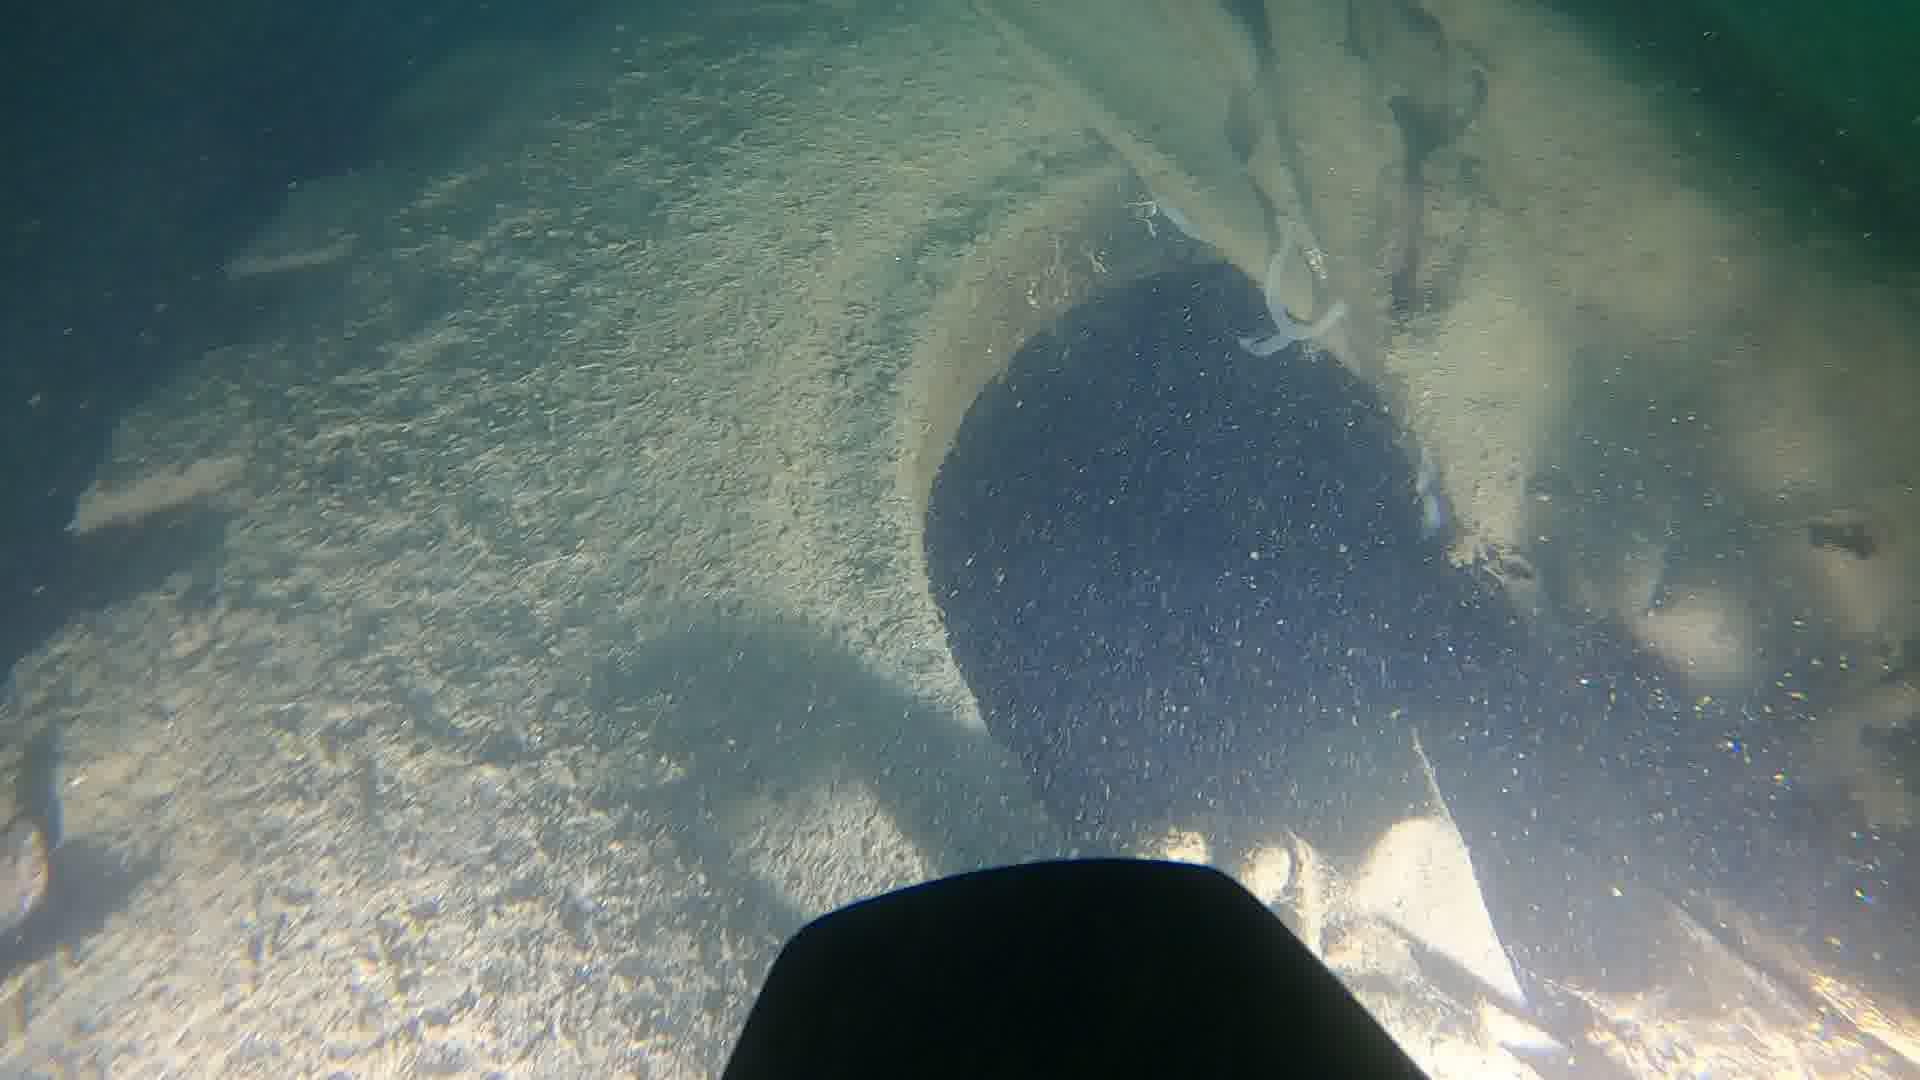tire: (0, 0, 1695, 1080)
